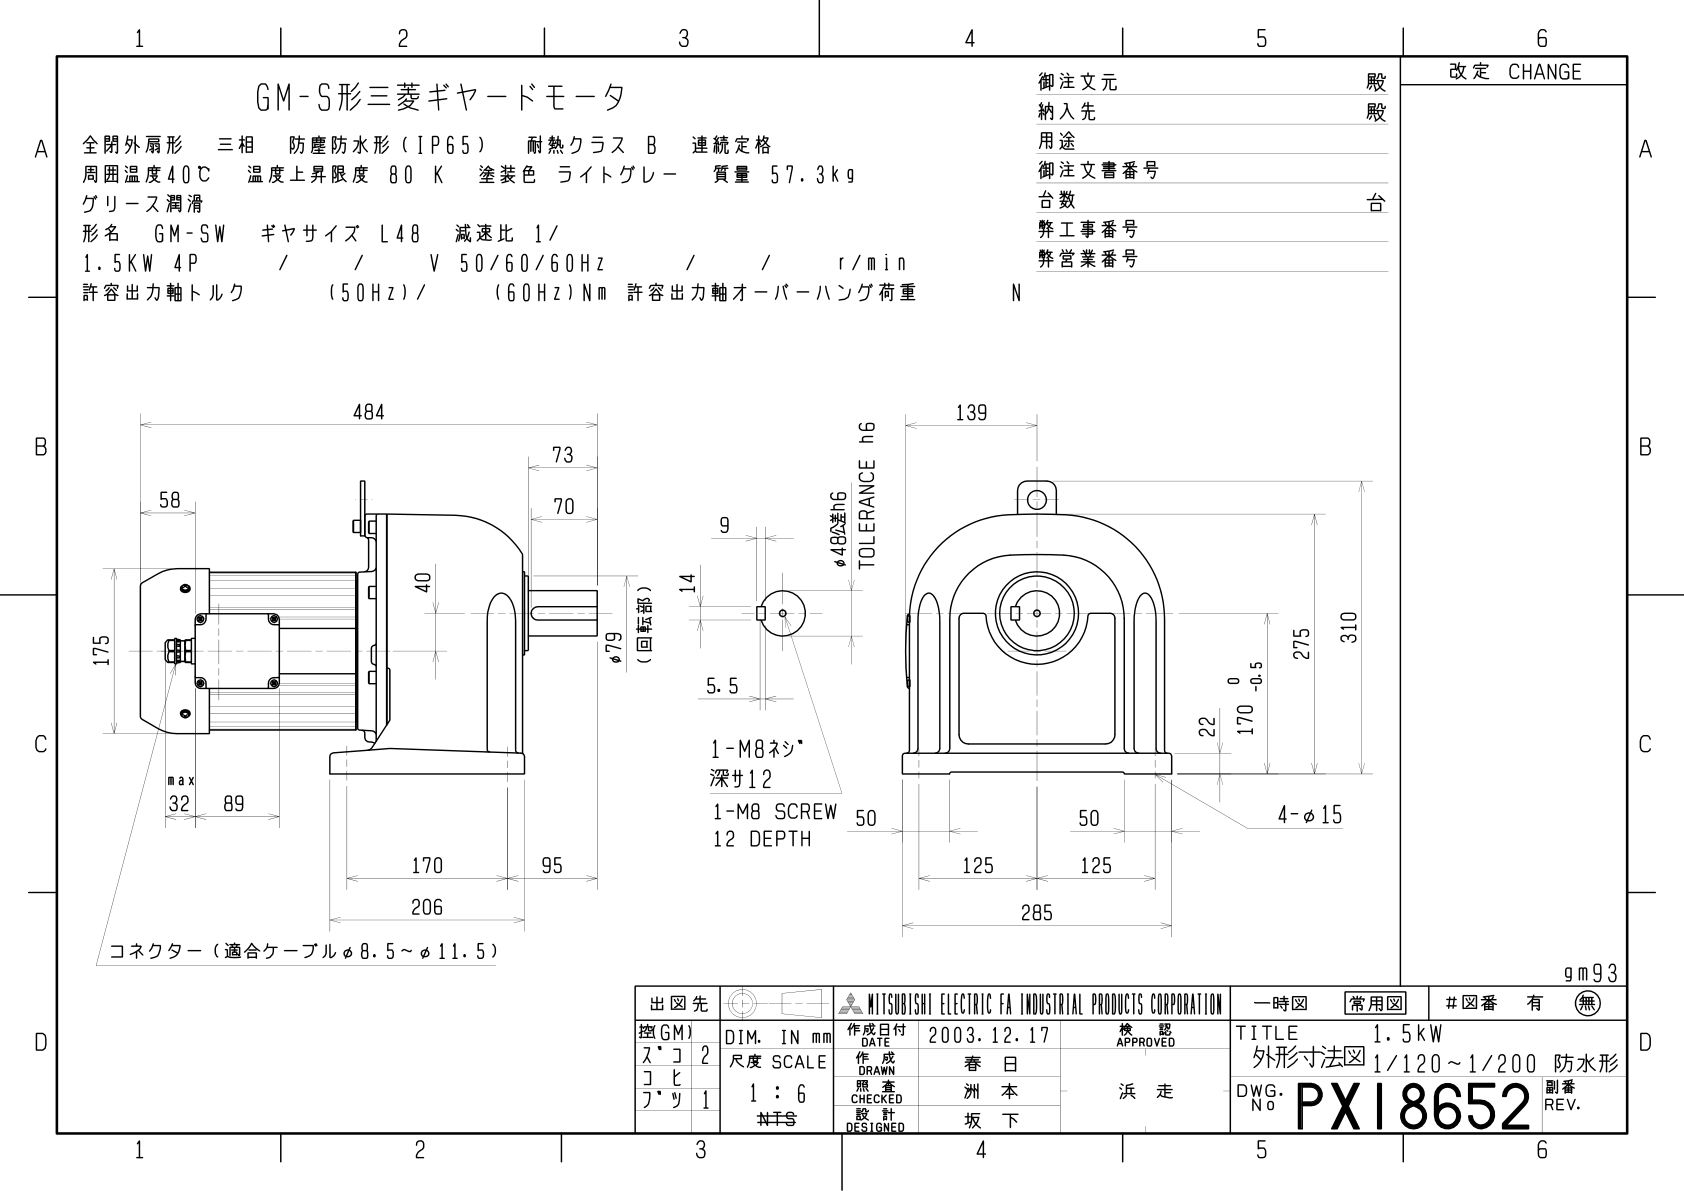GM_S_IP65＿三相_脚: (71, 369, 1393, 969)
